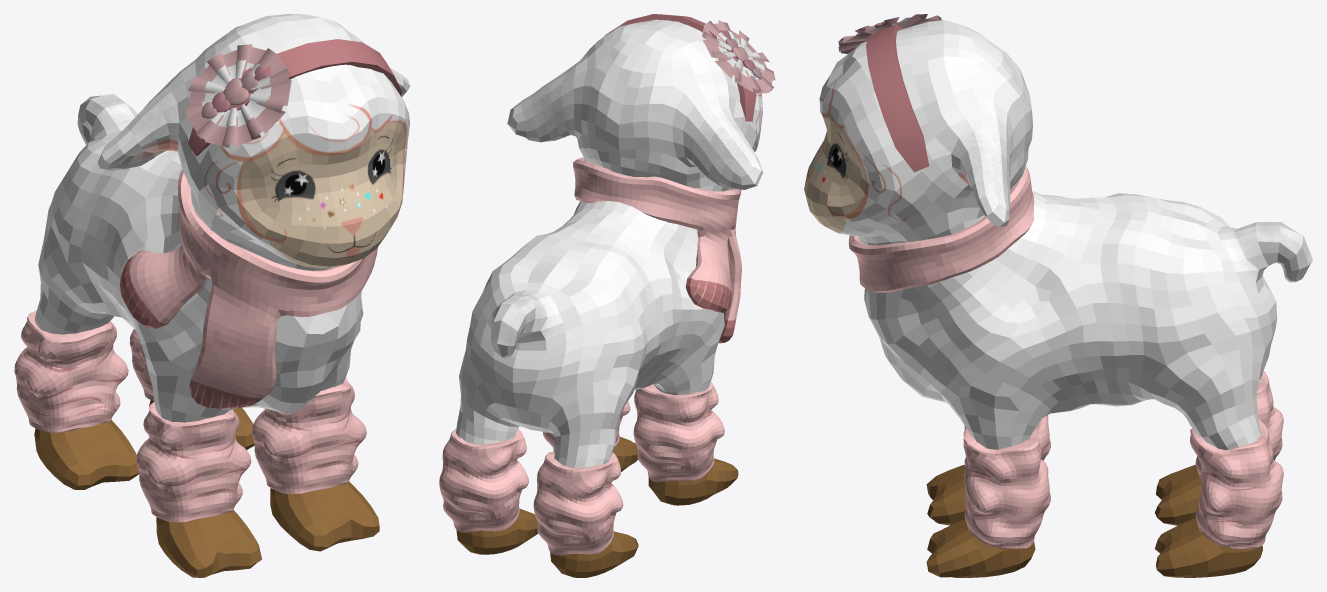
File: LUCIE THE LAMB1.fbx
3 views of the same model, side by side, from view 1: azimuth 30°, elevation 25°; view 2: azimuth 150°, elevation 25°; view 3: azimuth 270°, elevation 25° (orthographic). The views are drawn at different scales.
Parts seen in each view (by area): view 1: body_low2:Mesh4; view 2: body_low2:Mesh4; view 3: body_low2:Mesh4.
Part boxes in pixels (x1,y1,x2,y2): body_low2:Mesh4: [14, 14, 410, 577]; body_low2:Mesh4: [439, 14, 775, 577]; body_low2:Mesh4: [804, 14, 1312, 577].
Size of the model in its own units: 11.51 by 19.34 by 17.52.
Materials: 9 (4 with a texture image).
